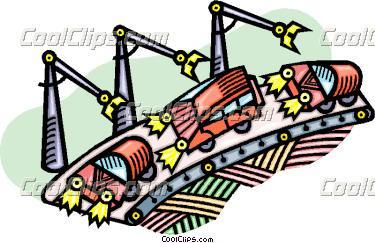car: (163, 62, 265, 158), (67, 133, 156, 211), (275, 58, 360, 112)
